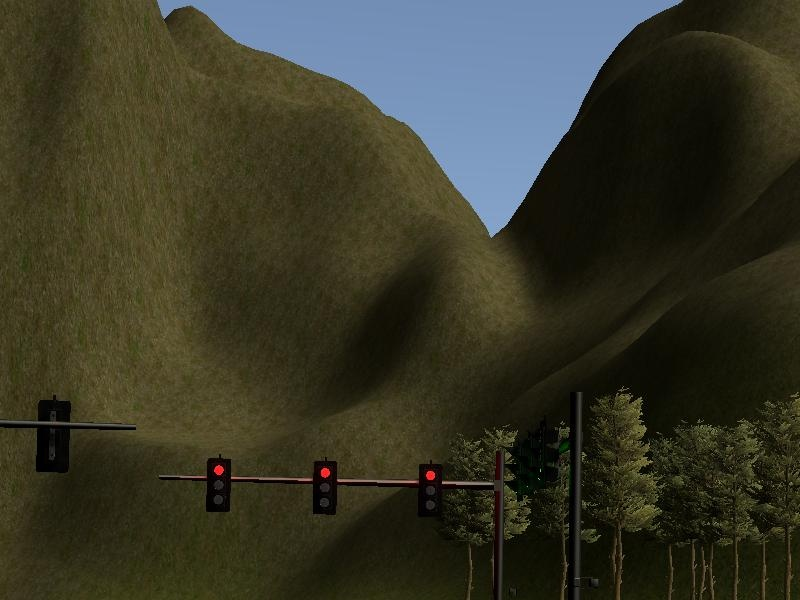red: (204, 457, 232, 513), (311, 459, 338, 516), (417, 462, 443, 518)
